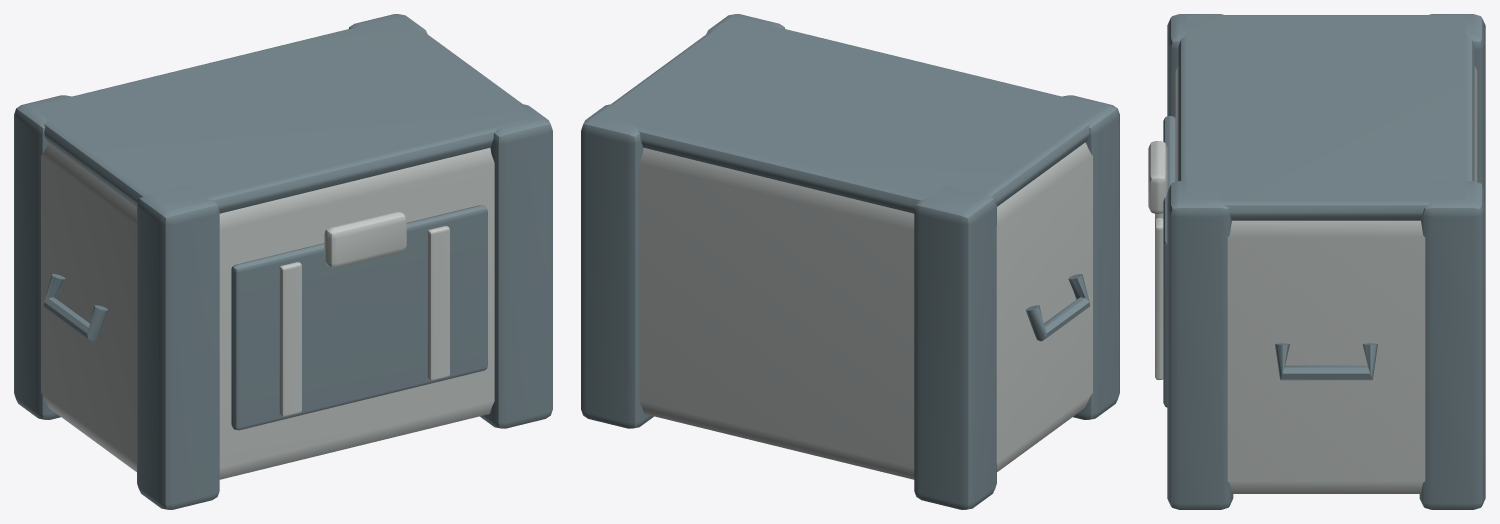
File: sci-fi-crate.glb
The picture shows the model from 3 angles, left to right: view 1: azimuth 30°, elevation 25°; view 2: azimuth 150°, elevation 25°; view 3: azimuth 270°, elevation 25°; orthographic projection. The views are drawn at different scales.
Visible parts, largest first — view 1: lid, armored_case, front_inset, corner_guard.001, corner_guard.003, corner_guard, panel_rib, panel_rib.001, center_lock, side_handle; view 2: armored_case, lid, corner_guard, corner_guard.002, corner_guard.001, side_handle; view 3: lid, armored_case, corner_guard.003, corner_guard.002, side_handle.001, corner_guard, front_inset, panel_rib.001, center_lock, corner_guard.001.
Part boxes in pixels (bbox=[...]): lid: bbox=[31, 17, 535, 213]; armored_case: bbox=[41, 142, 494, 479]; front_inset: bbox=[231, 205, 487, 430]; corner_guard.001: bbox=[137, 185, 219, 509]; corner_guard.003: bbox=[480, 104, 552, 428]; corner_guard: bbox=[14, 95, 71, 419]; panel_rib: bbox=[279, 262, 301, 416]; panel_rib.001: bbox=[427, 226, 449, 380]; center_lock: bbox=[324, 211, 406, 267]; side_handle: bbox=[44, 274, 107, 341]; armored_case: bbox=[639, 142, 1092, 479]; lid: bbox=[598, 17, 1102, 213]; corner_guard: bbox=[914, 185, 996, 509]; corner_guard.002: bbox=[581, 104, 653, 428]; corner_guard.001: bbox=[1062, 95, 1119, 419]; side_handle: bbox=[1026, 274, 1089, 341]; lid: bbox=[1178, 15, 1474, 220]; armored_case: bbox=[1175, 66, 1477, 493]; corner_guard.003: bbox=[1167, 181, 1233, 509]; corner_guard.002: bbox=[1419, 181, 1485, 509]; side_handle.001: bbox=[1275, 343, 1377, 380]; corner_guard: bbox=[1429, 14, 1485, 191]; front_inset: bbox=[1163, 116, 1175, 407]; panel_rib.001: bbox=[1155, 218, 1163, 379]; center_lock: bbox=[1148, 141, 1167, 213]; corner_guard.001: bbox=[1167, 14, 1223, 117].
Size of the model in its own units: 0.9416 by 0.62 by 0.6145.
